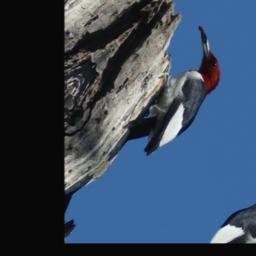Woodpecker: (92, 23, 232, 193)
